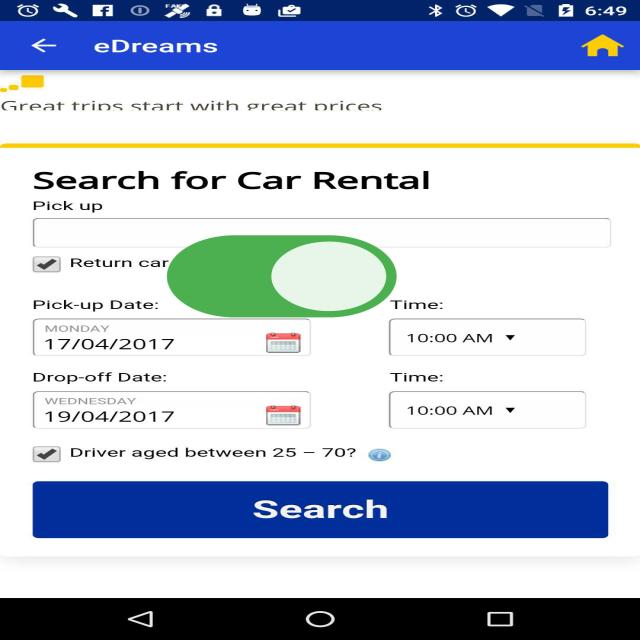social proof: (157, 204, 407, 355)
